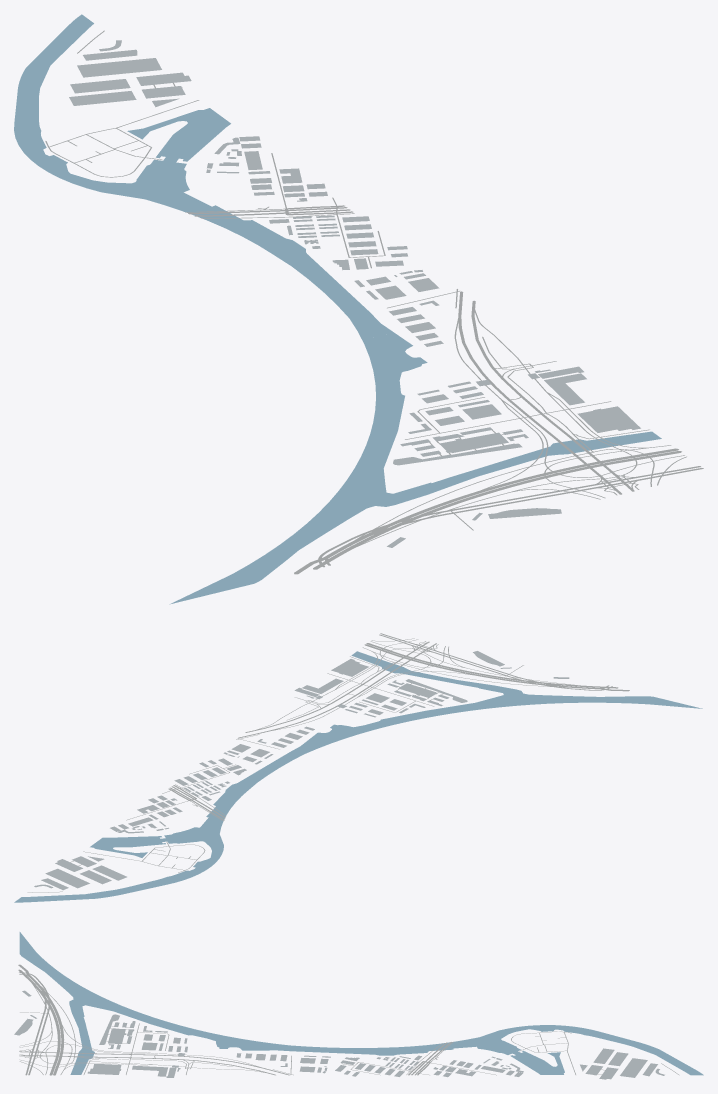
File: overview-known--7_6.glb
The picture shows the model from 3 angles, top to bottom: view 1: azimuth 30°, elevation 25°; view 2: azimuth 150°, elevation 25°; view 3: azimuth 270°, elevation 25°; orthographic projection. The views are drawn at different scales.
Size of the model in its own units: 1440 by 0.5637 by 2828.
